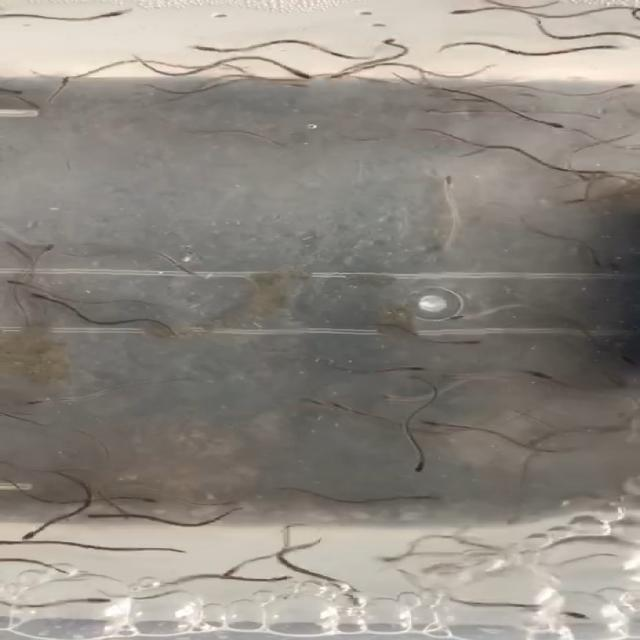active_glass_eel: (402, 489, 471, 517), (414, 304, 492, 327), (428, 158, 468, 202), (101, 502, 158, 532), (290, 395, 360, 418), (454, 332, 516, 357), (326, 573, 365, 612), (84, 2, 146, 26), (0, 271, 49, 299), (496, 361, 555, 384), (11, 79, 53, 110), (17, 392, 73, 415), (540, 601, 598, 623), (386, 354, 438, 376), (10, 529, 57, 553), (194, 499, 253, 518), (28, 240, 84, 260), (289, 64, 325, 90), (21, 288, 60, 312), (184, 36, 238, 53), (437, 5, 485, 24), (576, 158, 614, 182), (378, 28, 423, 47), (255, 571, 299, 589), (545, 114, 582, 134), (579, 254, 615, 274), (585, 38, 624, 56), (134, 492, 165, 512), (51, 73, 82, 92), (94, 591, 126, 609), (266, 132, 288, 153), (166, 543, 196, 556)
